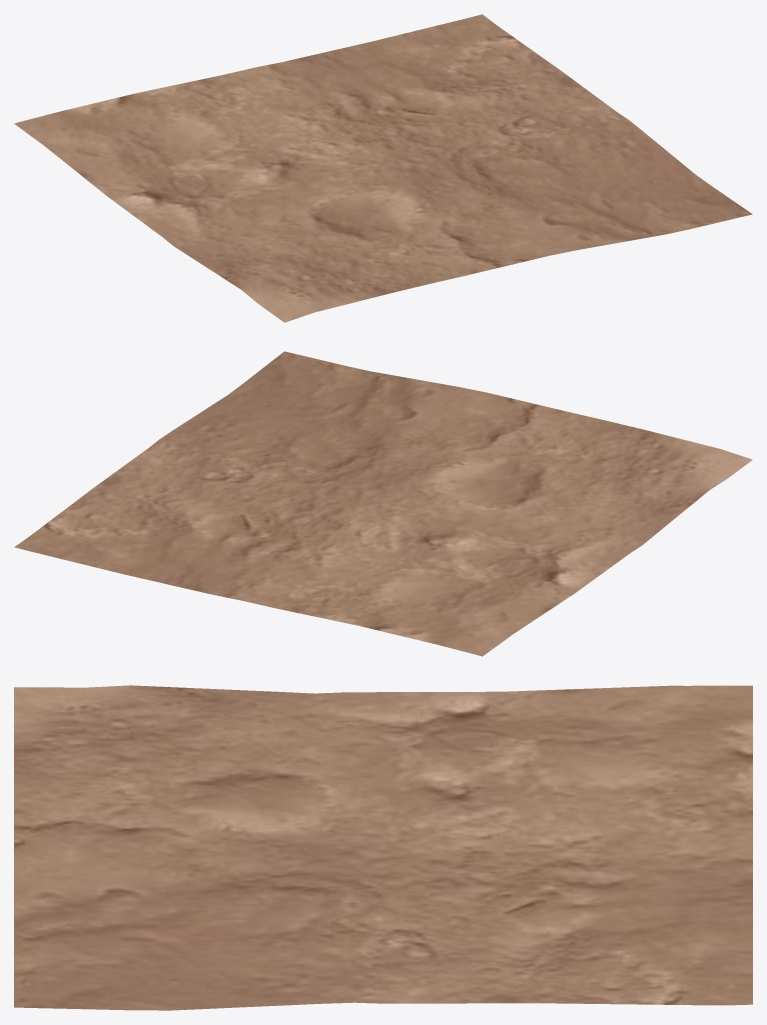
3 renders of one model, top to bottom at view 1: azimuth 30°, elevation 25°; view 2: azimuth 150°, elevation 25°; view 3: azimuth 270°, elevation 25°, orthographic. The views are drawn at different scales.
Size of the model in its own units: 256 by 6.06 by 256.
Materials: 1 (1 with a texture image).
